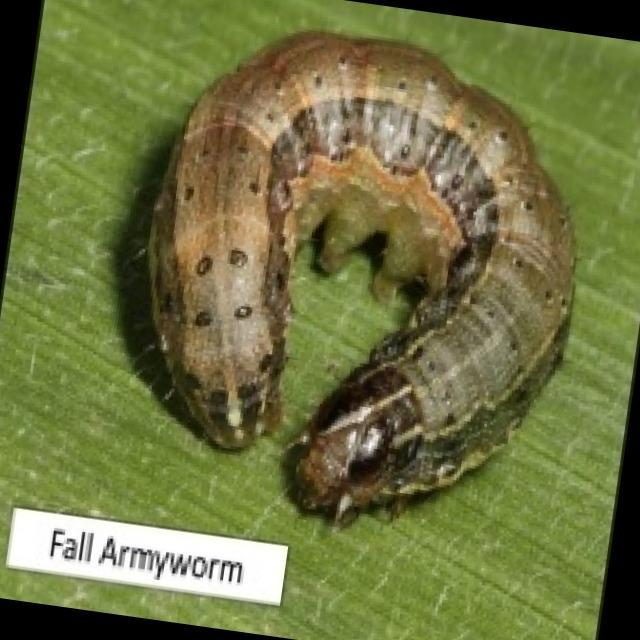Plaga: (62, 1, 626, 570)
